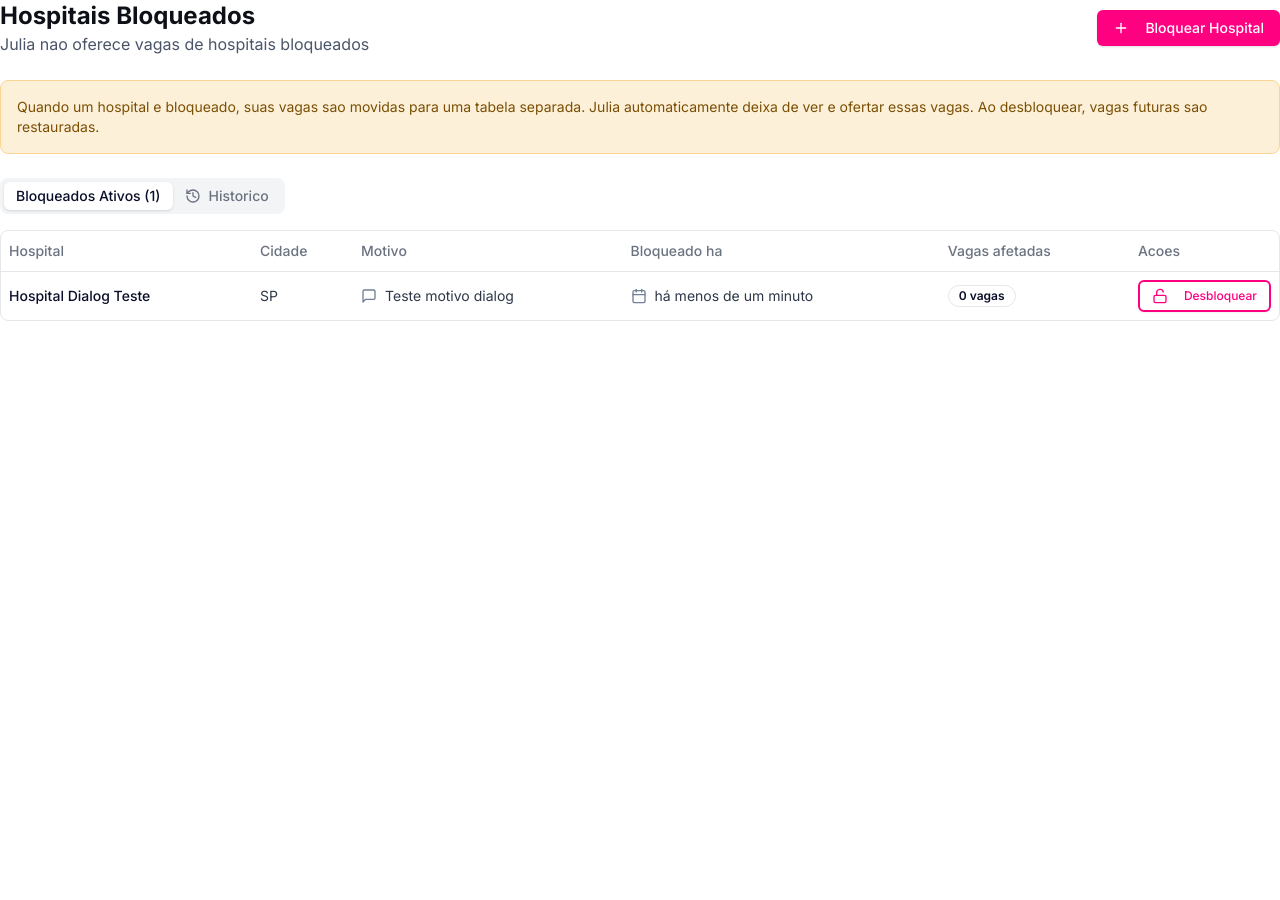
Test: HospitaisBloqueadosPage › opens confirmation dialog when Desbloquear is clicked
This screenshot has width=1280, height=900.
Expected: the text "Hospital Dialog Teste" is shown, [1, 271, 252, 320]
Find the Desbloquear button in the table row
Click the button "Desbloquear".
click(1204, 296)  # box [1138, 280, 1271, 312]
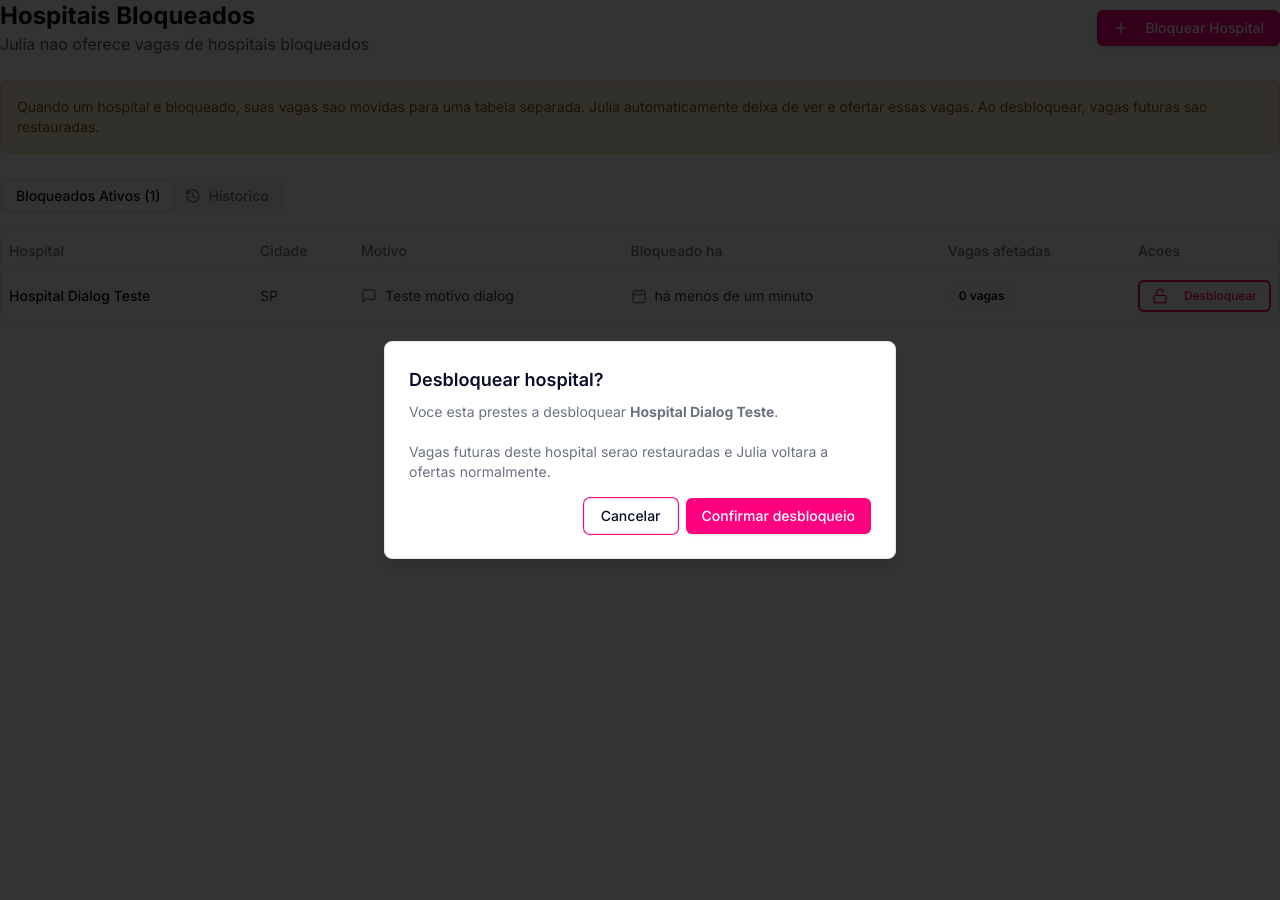
Expected: the dialog is shown, [384, 341, 896, 559]
